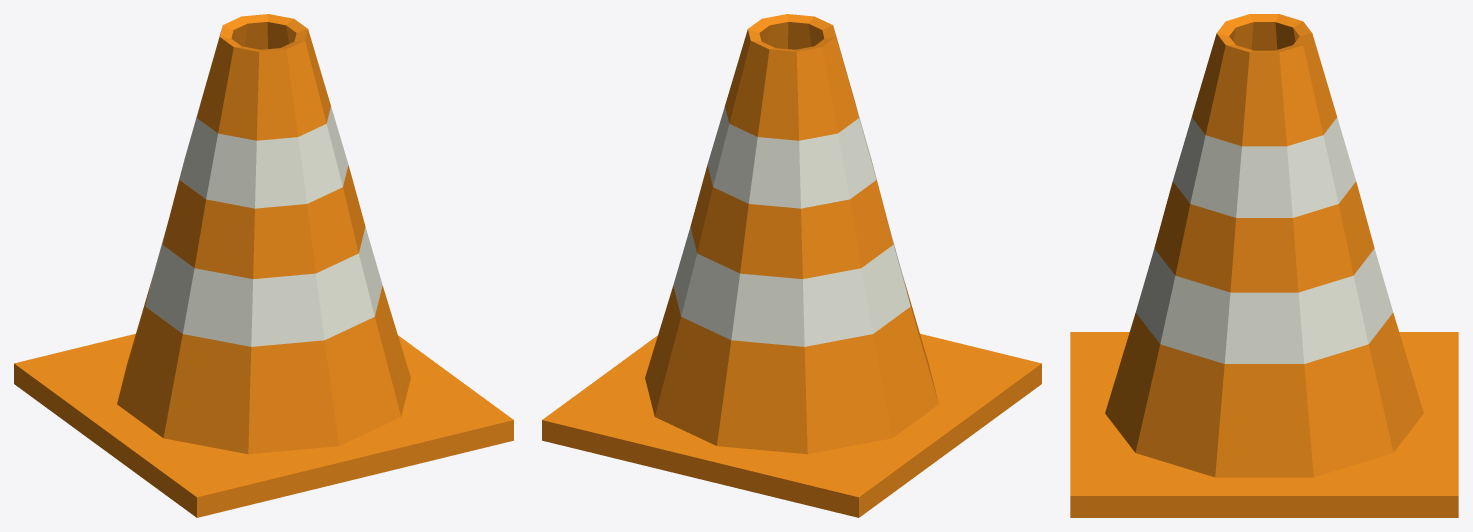
Rendered from trafficcone.fbx.
3 views of the same model, side by side, from view 1: azimuth 30°, elevation 25°; view 2: azimuth 150°, elevation 25°; view 3: azimuth 270°, elevation 25° (orthographic). The views are drawn at different scales.
Visible parts, largest first — view 1: trafficcone; view 2: trafficcone; view 3: trafficcone.
Part boxes in pixels (x1,y1,x2,y2): trafficcone: (14, 14, 513, 517); trafficcone: (542, 14, 1041, 517); trafficcone: (1070, 14, 1458, 517).
Bounding box in the file's own units: 0.9166 × 0.9166 × 1.05.
